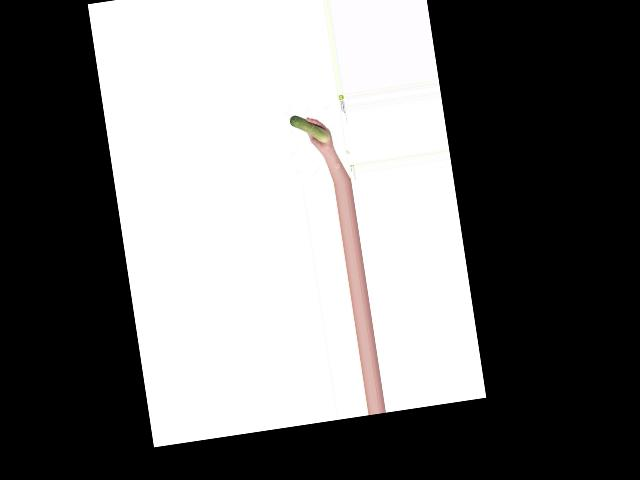cucumber: (289, 111, 330, 147)
